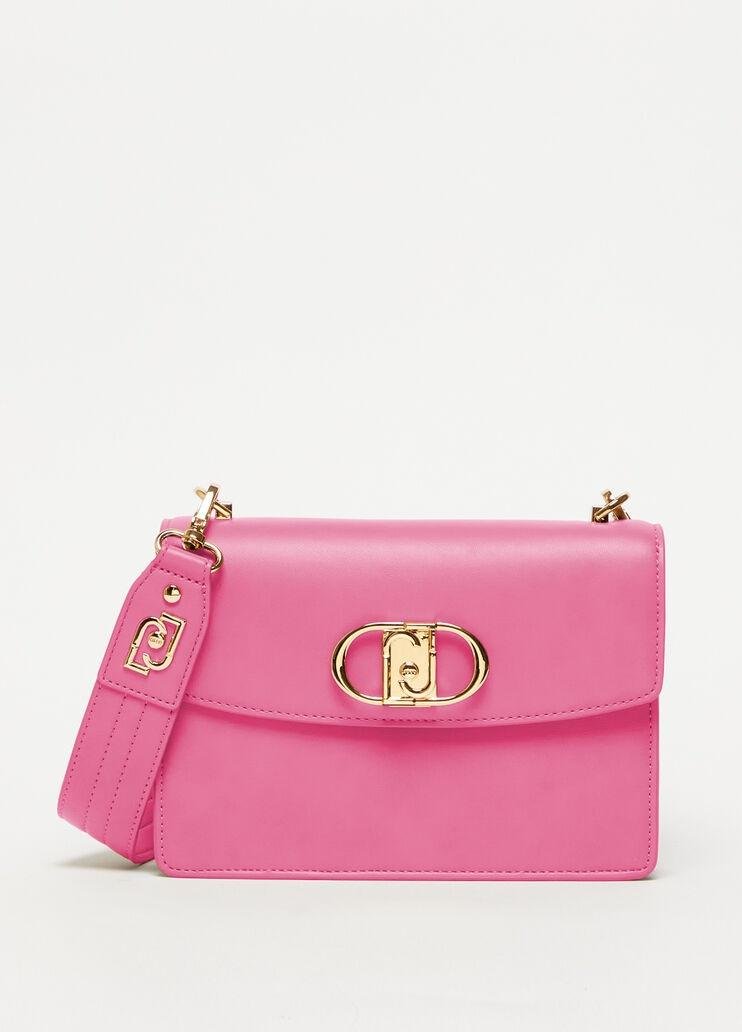LIU-JO: (383, 623, 436, 706), (125, 613, 184, 675)
